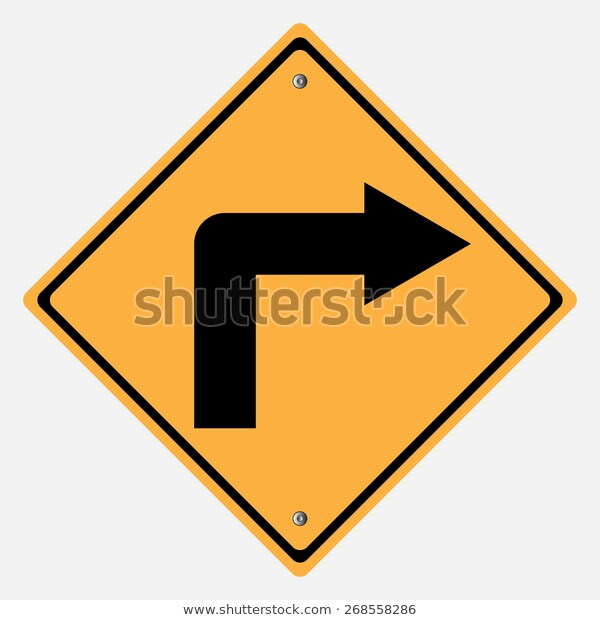right: (20, 21, 580, 581)
